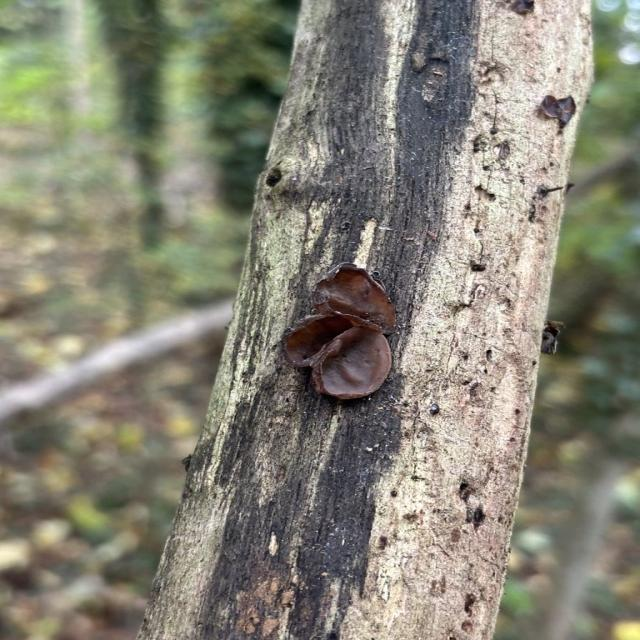Matang: (284, 264, 402, 400)
